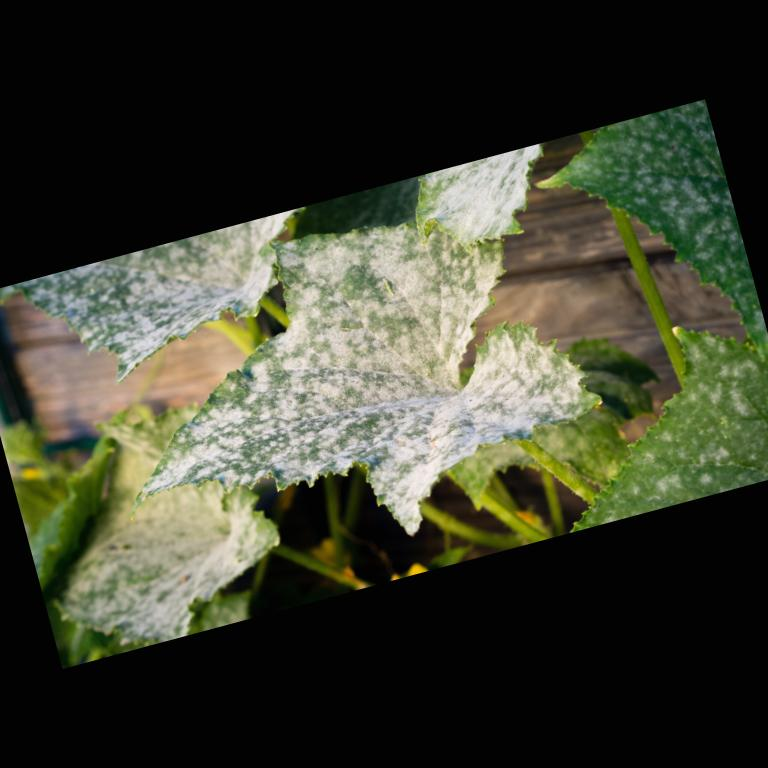powdery-mildew: (296, 222, 458, 364), (228, 358, 400, 476)
